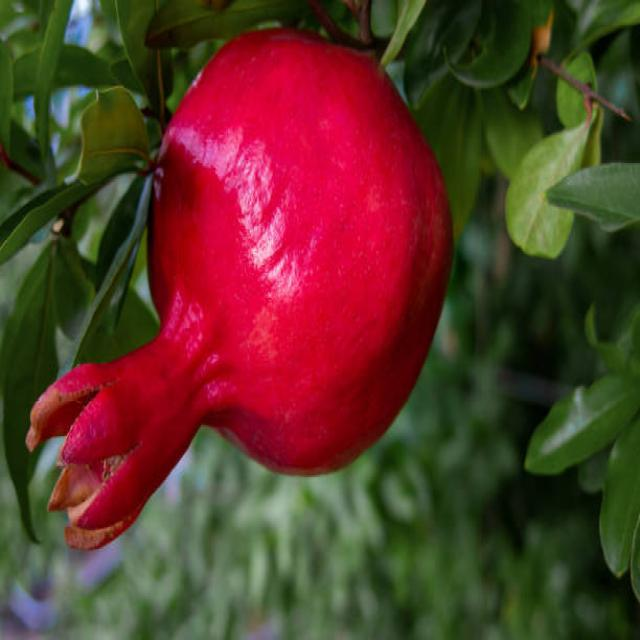Ripe: (23, 17, 459, 556)
